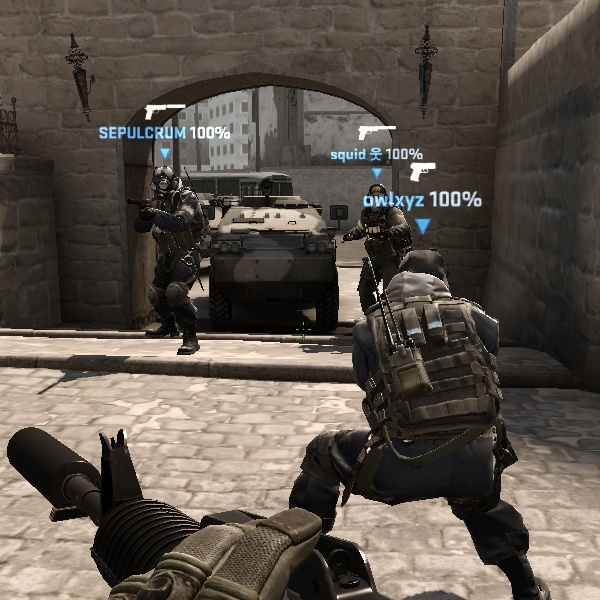ct_body: (253, 245, 562, 592), (118, 158, 233, 355), (345, 179, 415, 267)
ct_head: (382, 244, 470, 318), (142, 159, 193, 206), (358, 176, 398, 216)
